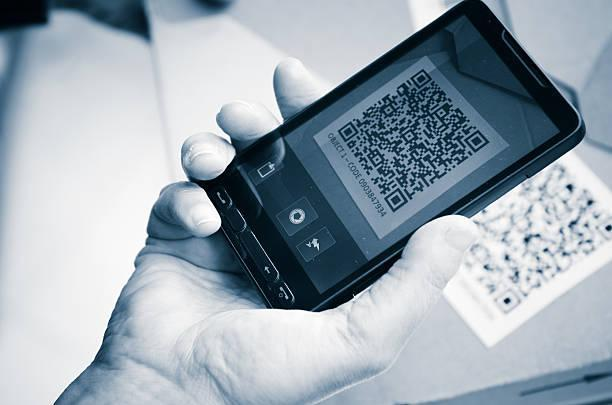Finder pattern: (493, 285, 525, 316), (462, 126, 493, 156), (383, 186, 411, 214), (336, 120, 360, 145), (593, 213, 611, 246), (408, 68, 432, 91)
